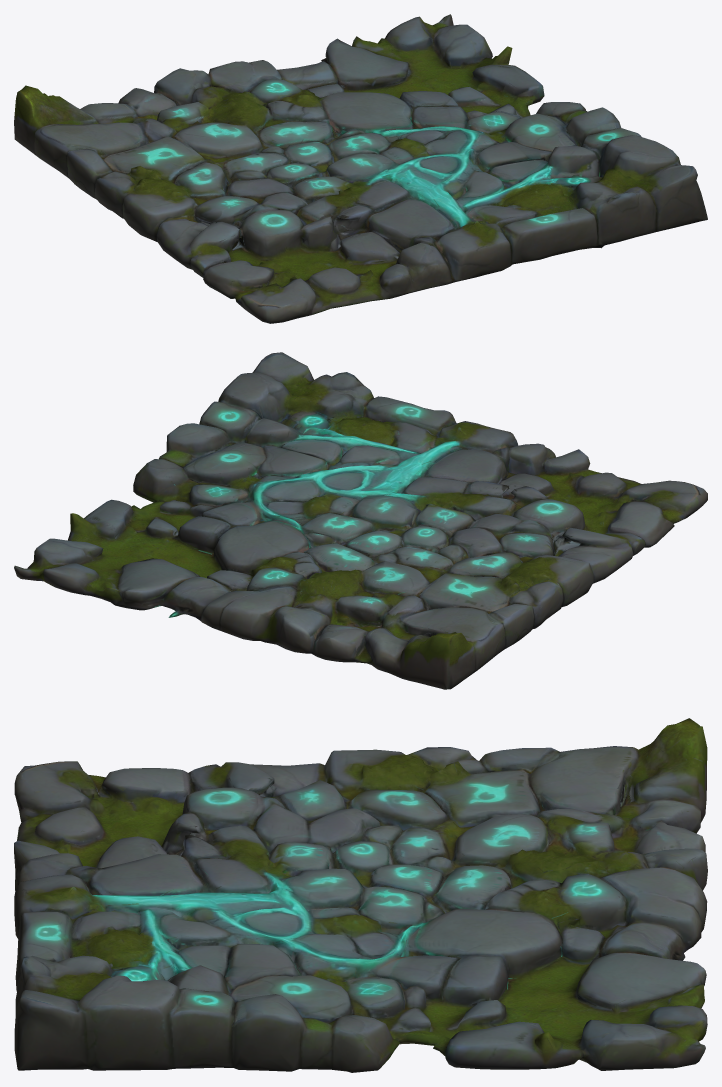
The model's file is path.glb.
3 views of the same model, one above another, from view 1: azimuth 30°, elevation 25°; view 2: azimuth 150°, elevation 25°; view 3: azimuth 270°, elevation 25° (orthographic). The views are drawn at different scales.
Parts seen in each view (by area): view 1: Mesh1.0; view 2: Mesh1.0; view 3: Mesh1.0.
Part boxes in pixels (x1,y1,x2,y2): Mesh1.0: (14,14,707,323); Mesh1.0: (14,352,707,689); Mesh1.0: (14,718,707,1072).
Bounding box in the file's own units: 2 × 0.2317 × 2.01.
1 material, 1 textured.
